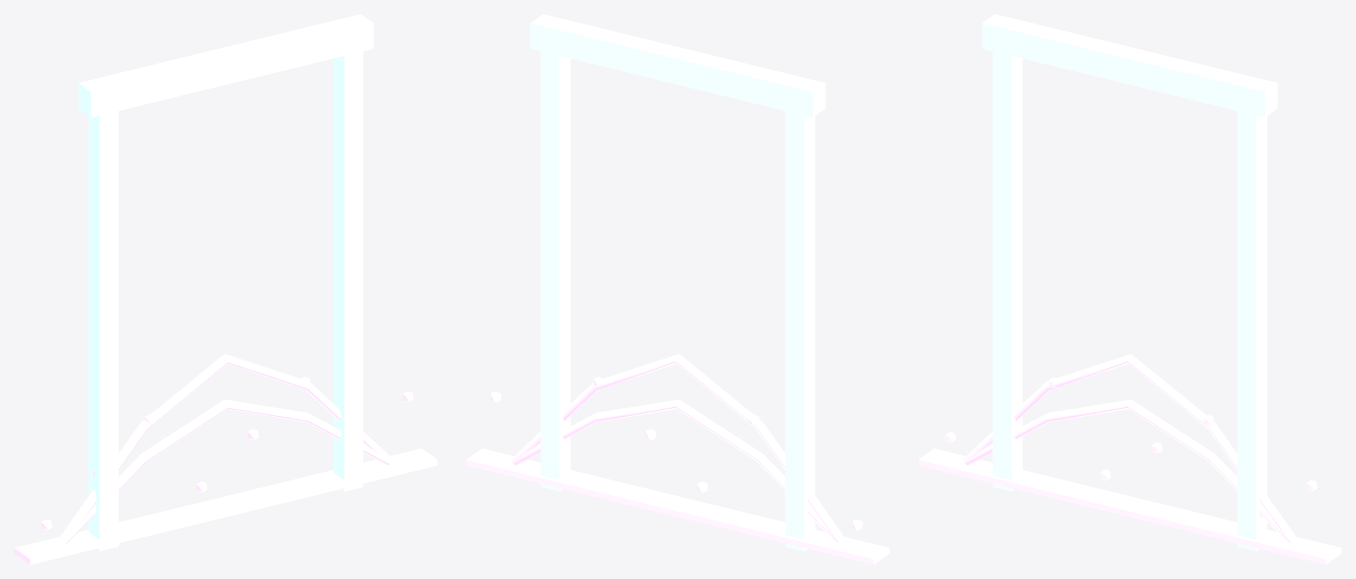
File: arrival-breach-gate.glb
3 renders of one model, left to right at view 1: azimuth 30°, elevation 25°; view 2: azimuth 150°, elevation 25°; view 3: azimuth 330°, elevation 25°, orthographic.
Visible parts, largest first — view 1: gate-upright-R, gate-upright-L, gate-lintel, gate-seam, gate-arc-0, gate-arc-1; view 2: gate-upright-R, gate-upright-L, gate-lintel, gate-seam, gate-arc-0, gate-arc-1; view 3: gate-upright-L, gate-upright-R, gate-lintel, gate-seam, gate-arc-0, gate-arc-1.
Boxes of the visible parts, left/top/right/bottom form: gate-upright-R: left=333, top=51, right=363, bottom=491; gate-upright-L: left=88, top=111, right=118, bottom=551; gate-lintel: left=78, top=14, right=373, bottom=117; gate-seam: left=14, top=448, right=437, bottom=564; gate-arc-0: left=59, top=354, right=392, bottom=542; gate-arc-1: left=62, top=399, right=390, bottom=543; gate-upright-R: left=540, top=51, right=570, bottom=491; gate-upright-L: left=785, top=111, right=815, bottom=551; gate-lintel: left=530, top=14, right=825, bottom=117; gate-seam: left=466, top=448, right=889, bottom=564; gate-arc-0: left=511, top=354, right=844, bottom=542; gate-arc-1: left=513, top=399, right=841, bottom=543; gate-upright-L: left=992, top=51, right=1022, bottom=491; gate-upright-R: left=1237, top=111, right=1267, bottom=551; gate-lintel: left=982, top=14, right=1277, bottom=117; gate-seam: left=918, top=448, right=1341, bottom=564; gate-arc-0: left=963, top=354, right=1296, bottom=542; gate-arc-1: left=965, top=399, right=1293, bottom=543.
Size of the model in its own units: 1.5 by 1.63 by 0.1.
